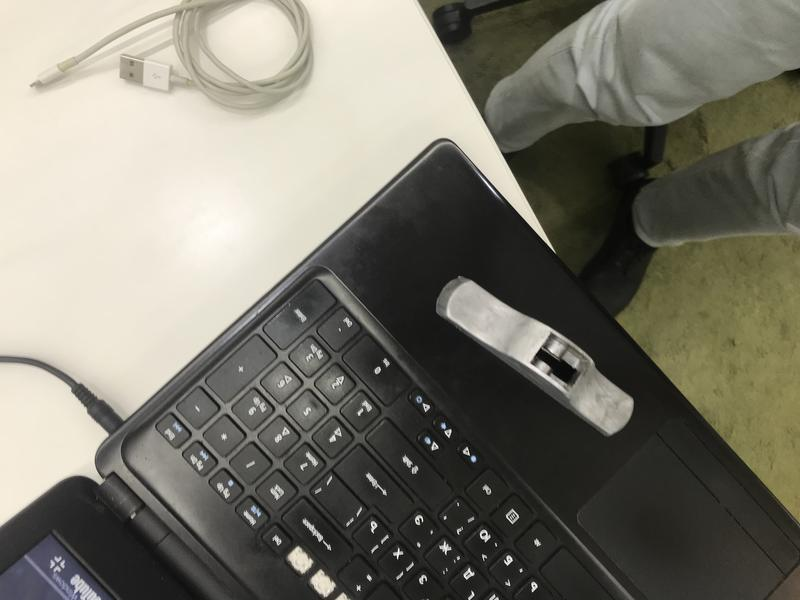zapchast: (431, 267, 648, 444)
